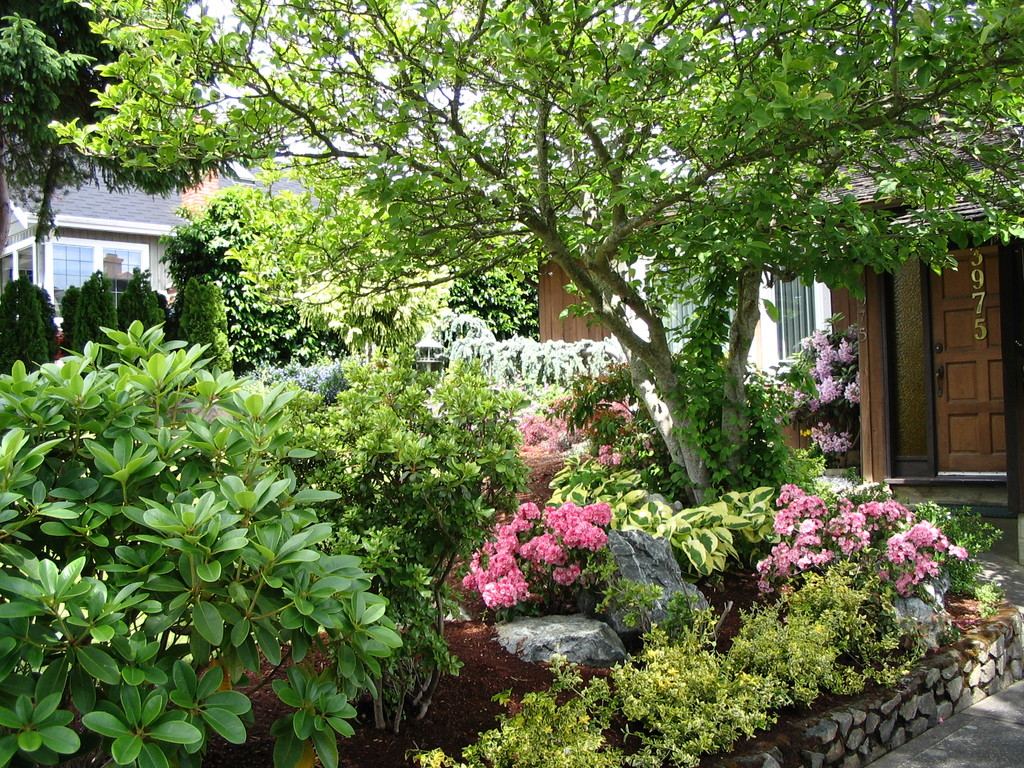Tree: (204, 0, 1020, 767), (0, 314, 465, 767), (0, 0, 204, 247), (162, 272, 240, 367), (0, 266, 52, 378), (56, 275, 121, 363), (122, 265, 166, 346)
